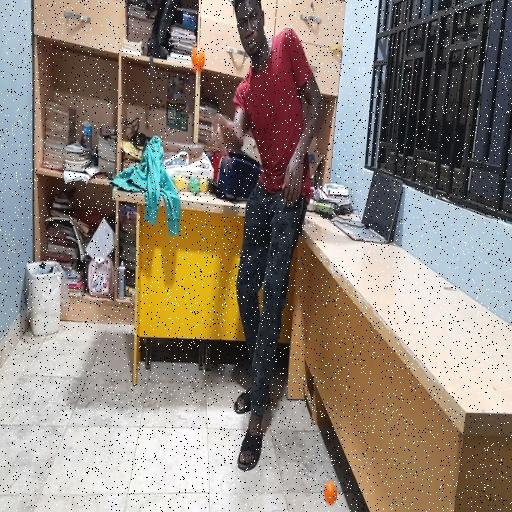plastic-ball: (190, 42, 207, 74)
